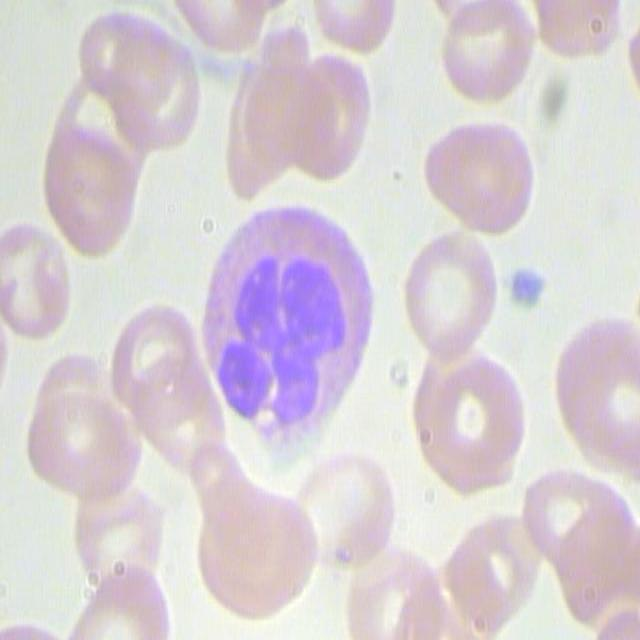Platelets: (500, 252, 556, 312)
RBC: (283, 437, 401, 580), (418, 347, 536, 489), (22, 377, 146, 503), (39, 127, 144, 268), (399, 225, 506, 360), (427, 116, 533, 241), (429, 1, 538, 104), (1, 224, 72, 339)
WBC: (194, 200, 385, 465)
